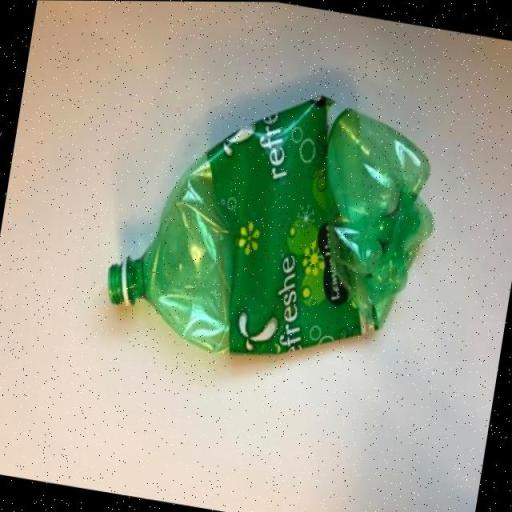plastic: (94, 61, 453, 390)
